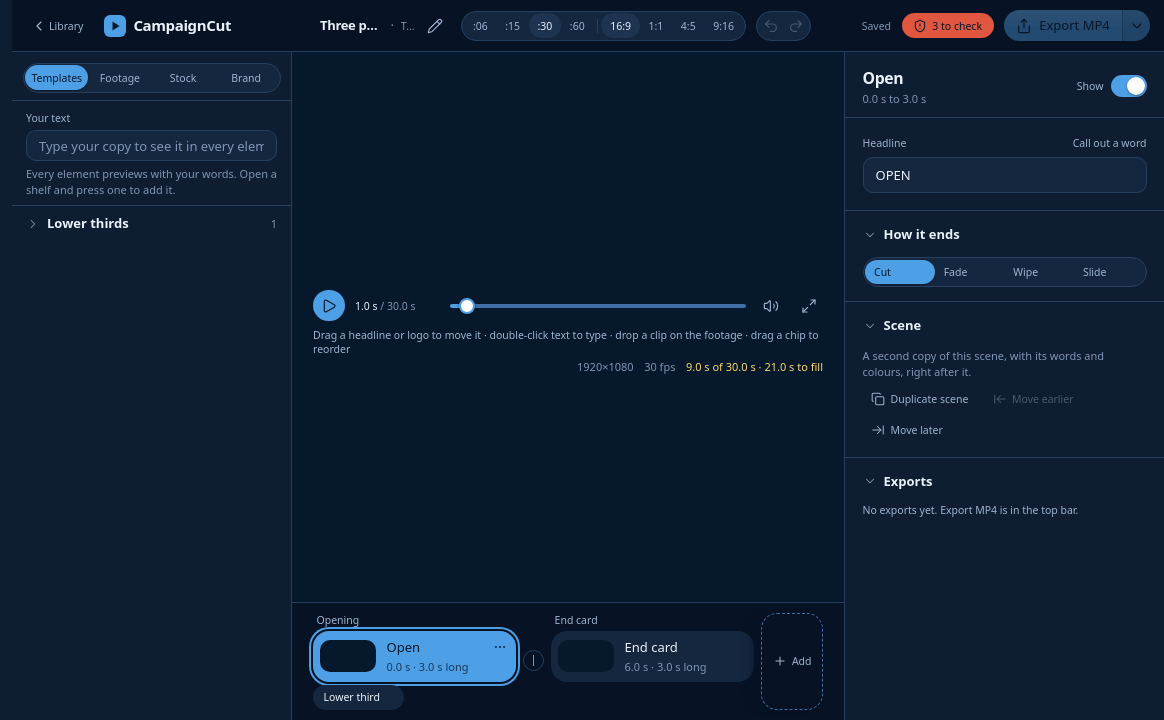
Test: Editor strip structure (M51) › labels the scenes for their place and hangs the lower third under the opening
Check: the field labelled "Headline" is shown, box [862,157,1146,193]
Check: the field named "Preview every text element with your copy" is shown, box [26,130,277,161]
Click the button "Lower thirds" at [138, 224], box [12,206,264,241]
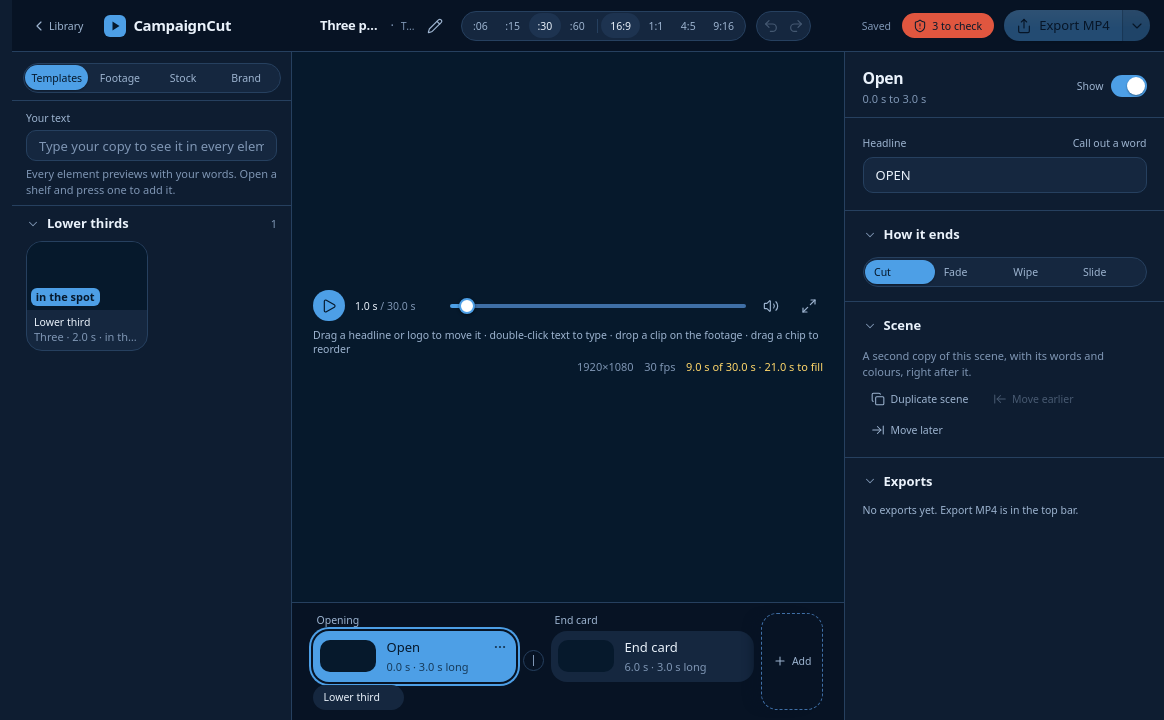
Check: the element that starts with "Lower thirds" is shown, box [12,205,291,362]
Check: the button with aria-label "Add Lower third from Three" is shown, box [26,241,148,351]
